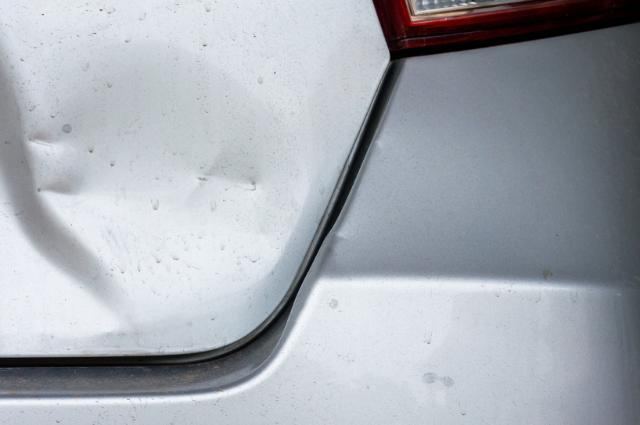Dickey: (4, 0, 300, 367)
